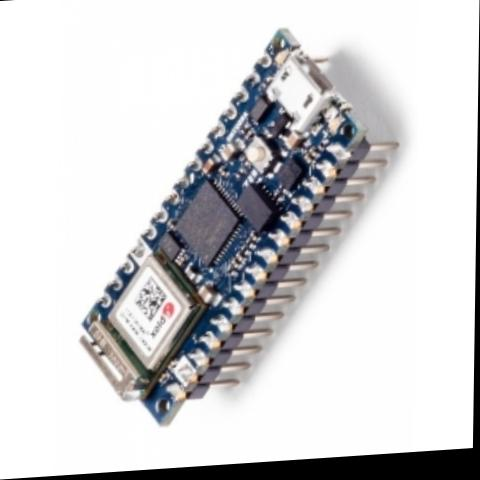Arduino-Nano: (73, 8, 407, 457)
